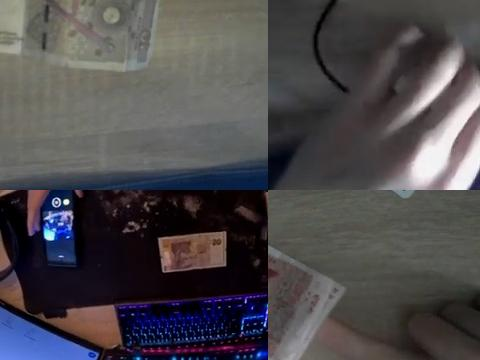50leva: (156, 227, 229, 273)
5leva: (268, 242, 346, 360)
